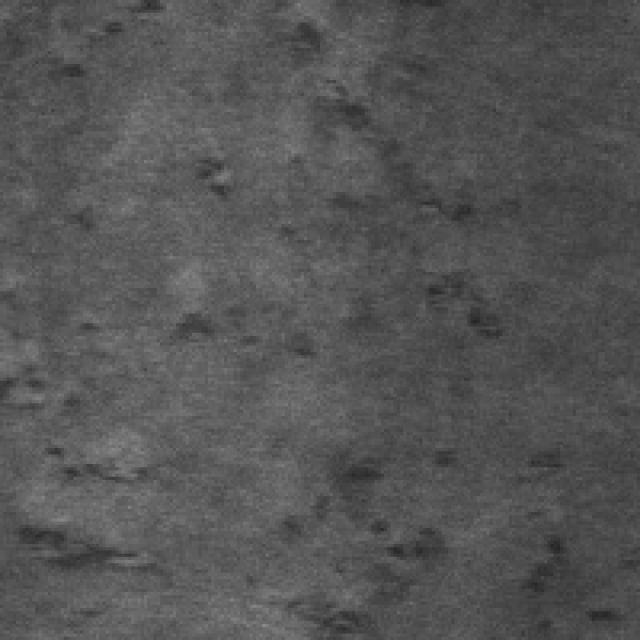rolled-in_scale: (272, 16, 506, 362), (6, 368, 182, 611), (275, 442, 464, 634)
